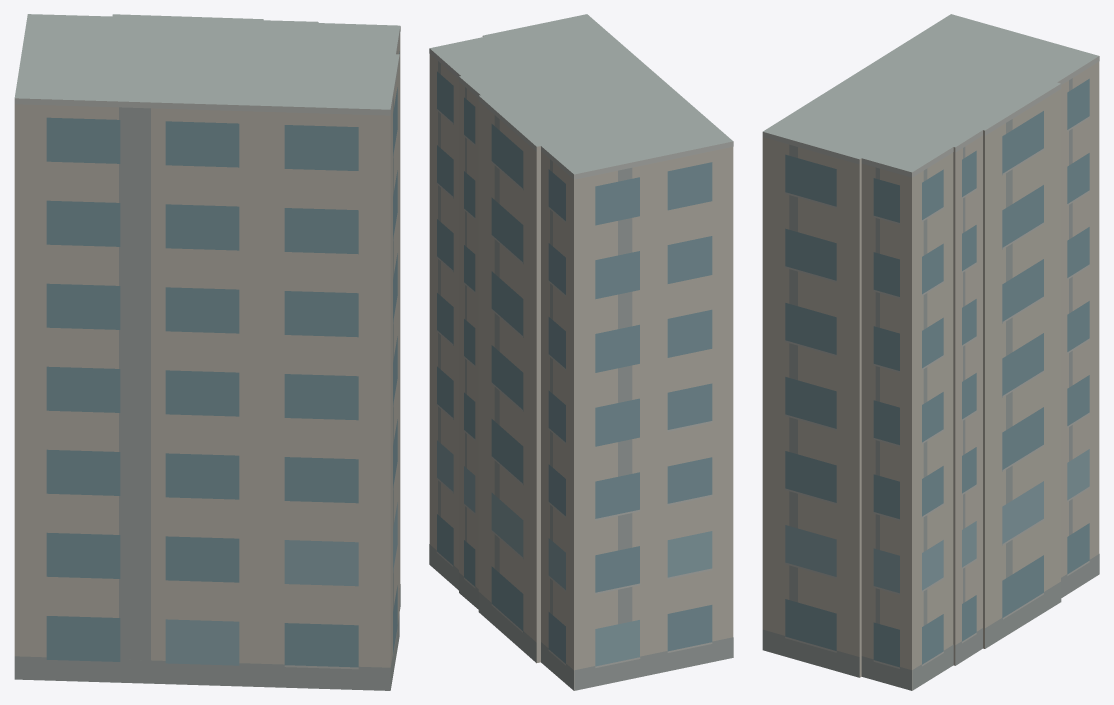
Rendered from survey-upis-32968987.glb.
The picture shows the model from 3 angles, left to right: view 1: azimuth 30°, elevation 25°; view 2: azimuth 150°, elevation 25°; view 3: azimuth 270°, elevation 25°; orthographic projection. The views are drawn at different scales.
Visible parts, largest first — view 1: survey-upis-32968987.tmp; view 2: survey-upis-32968987.tmp; view 3: survey-upis-32968987.tmp.
Part boxes in pixels (<box>): survey-upis-32968987.tmp: <box>14,14,400,690</box>; survey-upis-32968987.tmp: <box>429,14,733,690</box>; survey-upis-32968987.tmp: <box>762,14,1099,690</box>.
Size of the model in its own units: 15.74 by 24 by 14.14.
